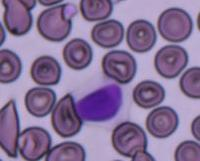L: (74, 76, 133, 126)
